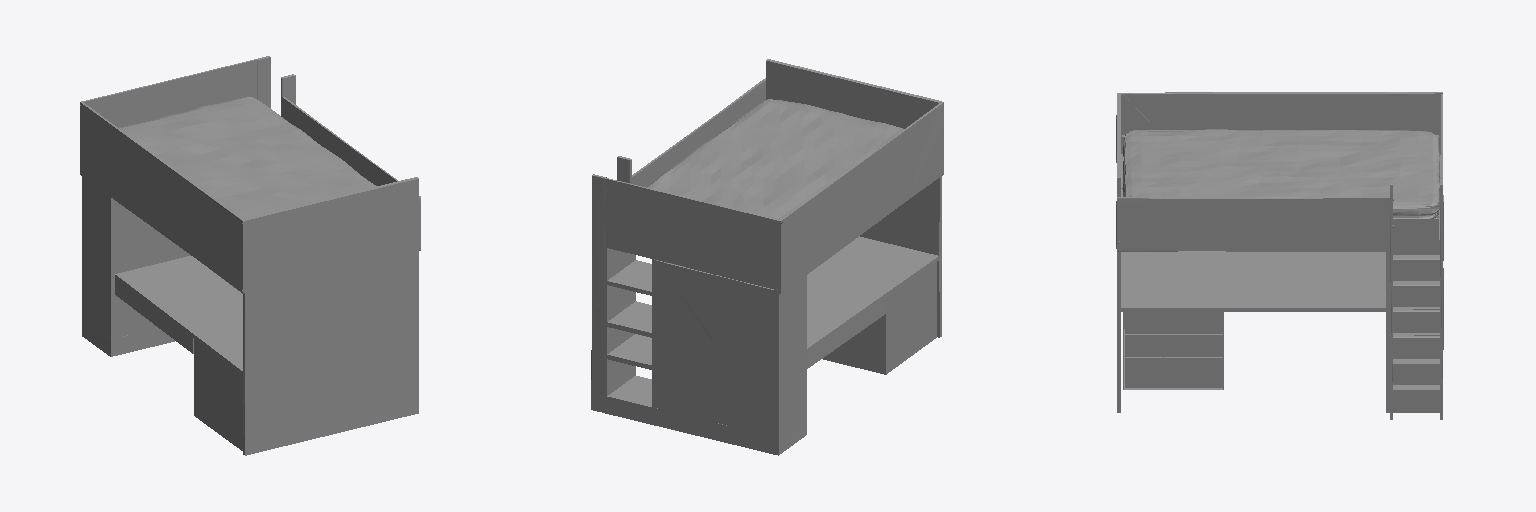
The model's file is BunkOBJ.obj.
3 views of the same model, side by side, from view 1: azimuth 30°, elevation 25°; view 2: azimuth 150°, elevation 25°; view 3: azimuth 270°, elevation 25° (orthographic).
Parts seen in each view (by area): view 1: Bunk_Cylinder.025; view 2: Bunk_Cylinder.025; view 3: Bunk_Cylinder.025.
Boxes of the visible parts, x1=… form: Bunk_Cylinder.025: x1=80, y1=56, x2=420, y2=455; Bunk_Cylinder.025: x1=591, y1=59, x2=943, y2=455; Bunk_Cylinder.025: x1=1116, y1=92, x2=1443, y2=419.
Bounding box in the file's own units: 10.57 × 12.51 × 15.78.